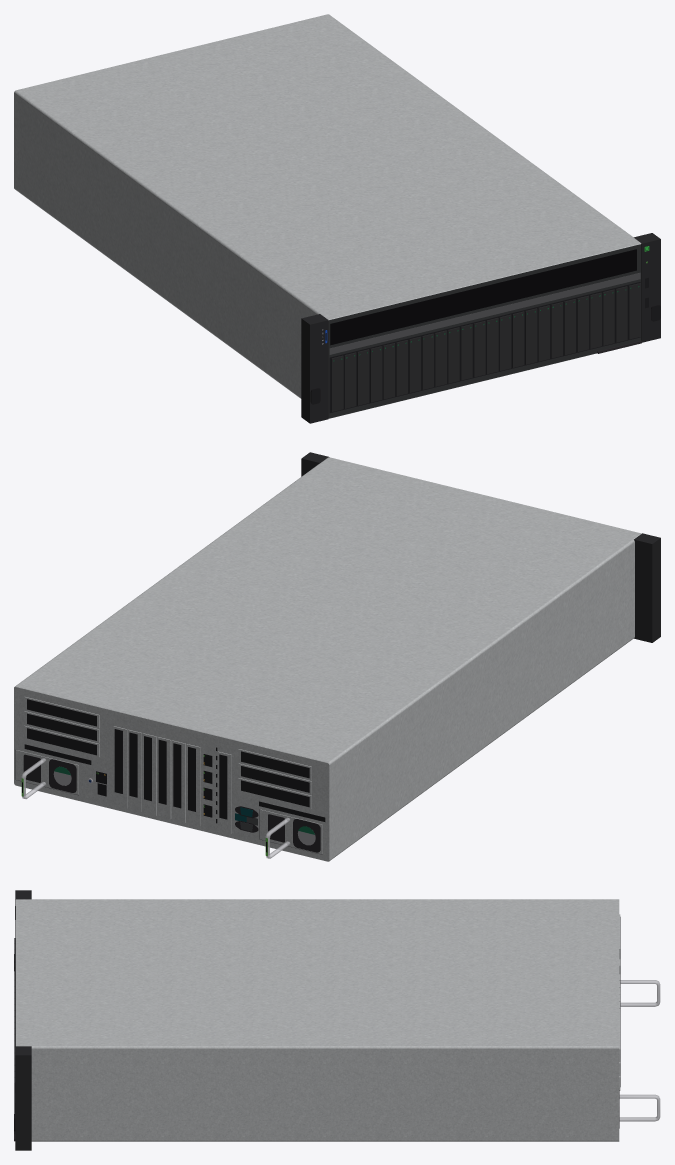
Rendered from R940.far.glb.
3 views of the same model, one above another, from view 1: azimuth 30°, elevation 25°; view 2: azimuth 150°, elevation 25°; view 3: azimuth 270°, elevation 25° (orthographic). The views are drawn at different scales.
Visible parts, largest first — view 1: Shell_far; view 2: Shell_far; view 3: Shell_far.
Boxes of the visible parts, x1,y1,x2,y2 form: Shell_far: (14, 14, 660, 423); Shell_far: (14, 452, 660, 861); Shell_far: (14, 890, 660, 1150).
Bounding box in the file's own units: 0.482 × 0.1303 × 0.7995.
4 materials, 2 textured.
